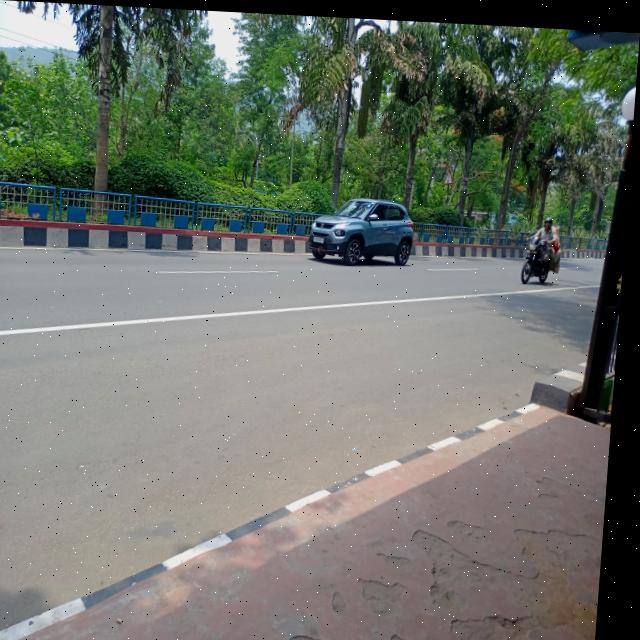bike: (523, 224, 562, 280)
car: (305, 176, 424, 276)
